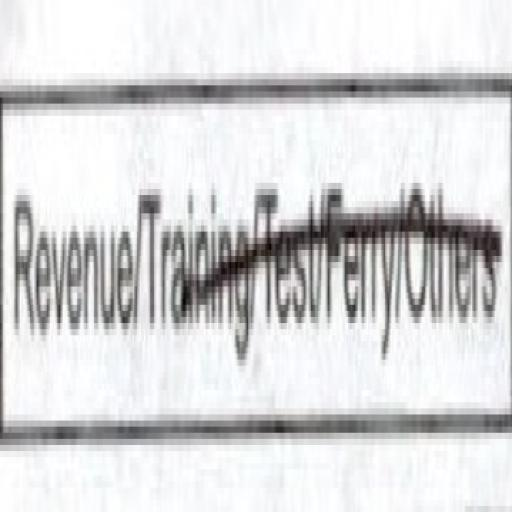check: (12, 76, 134, 471)
